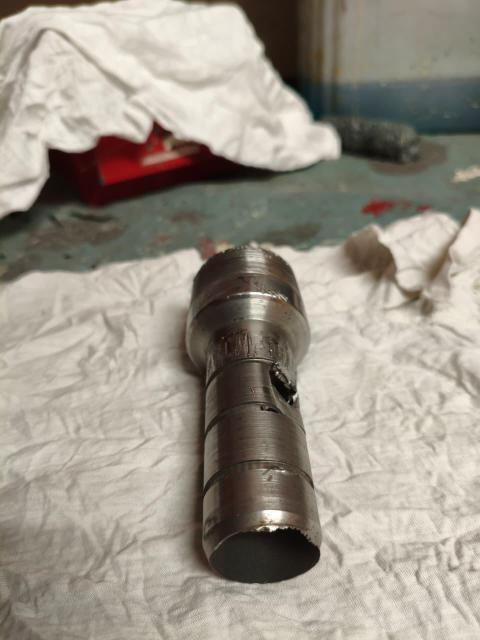Metal: (185, 247, 330, 580)
